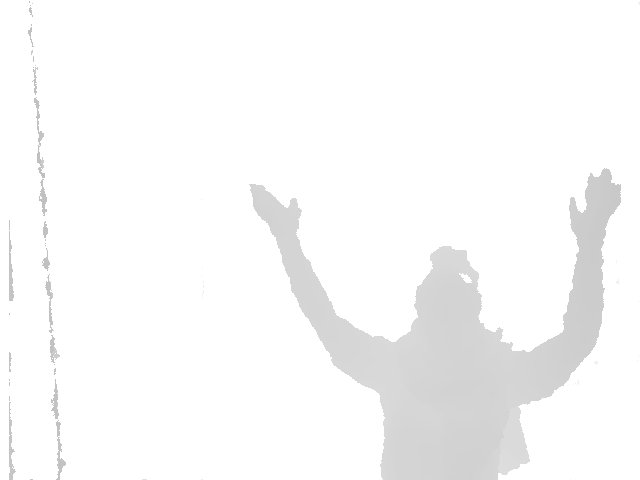hand: (566, 169, 624, 234), (247, 181, 304, 231)
head: (407, 245, 487, 350)
person: (246, 169, 624, 480)
